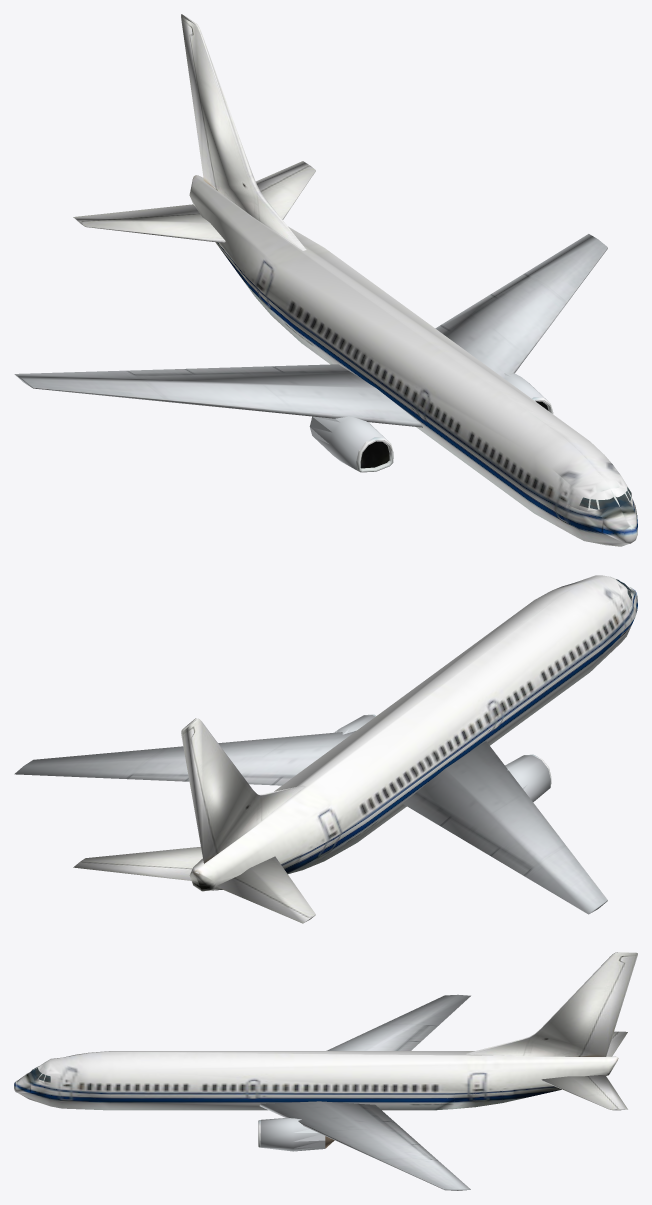
3 views of the same model, one above another, from view 1: azimuth 30°, elevation 25°; view 2: azimuth 150°, elevation 25°; view 3: azimuth 270°, elevation 25° (orthographic). The views are drawn at different scales.
Visible parts, largest first — view 1: o9; view 2: o9; view 3: o9.
Part boxes in pixels (left/top/right/bottom): o9: left=14, top=14, right=637, bottom=546; o9: left=14, top=575, right=637, bottom=923; o9: left=14, top=952, right=637, bottom=1190.
Bounding box in the file's own units: 701 × 288 × 952.
Materials: 1 (1 with a texture image).
